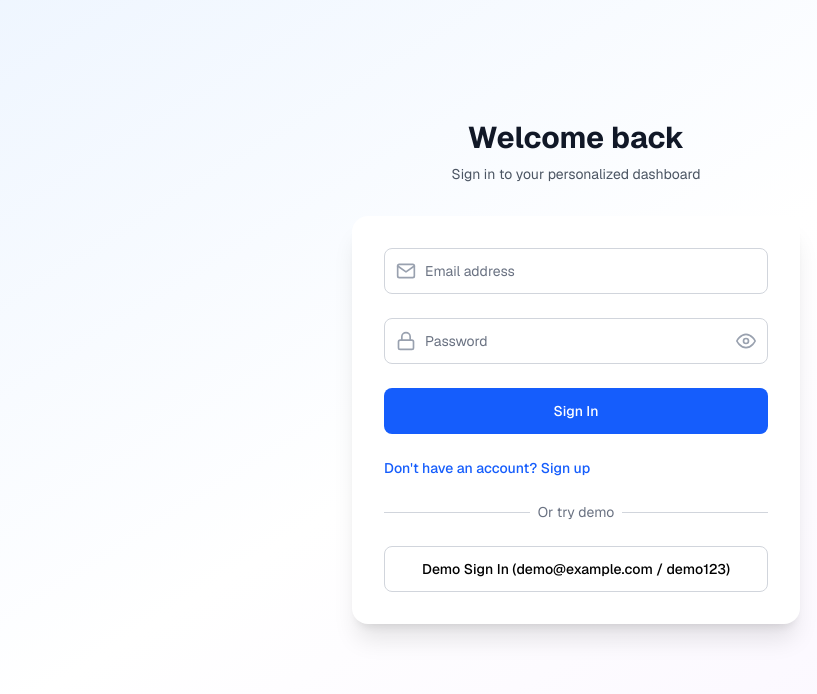
Test: Critical User Flows › Authentication › should show error for invalid credentials
The image size is (817, 694).
Type "wrong@example.com" into the field with placeholder "Email address".
click(576, 271); type("wrong@example.com")  # box [384,248,768,294]
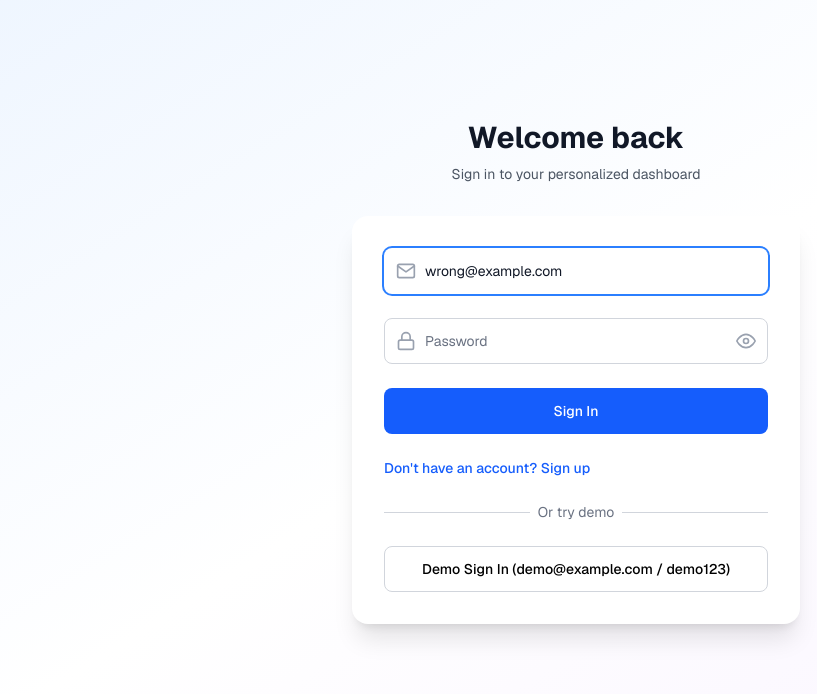
Type "wrongpass" into the password field with placeholder "Password".
click(576, 341); type("wrongpass")  # box [384,318,768,364]
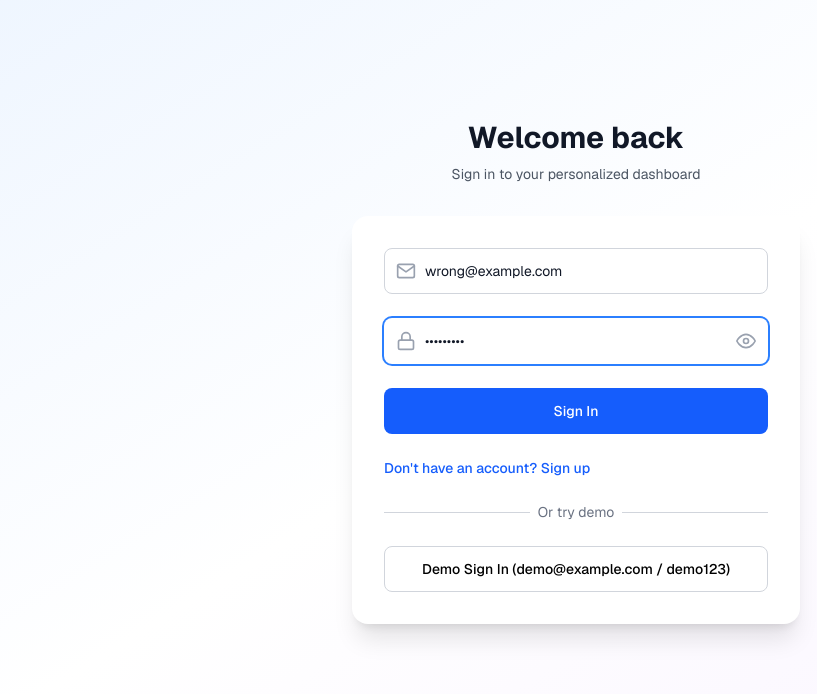
Click the submit button.
click(576, 411)  # box [384,388,768,434]
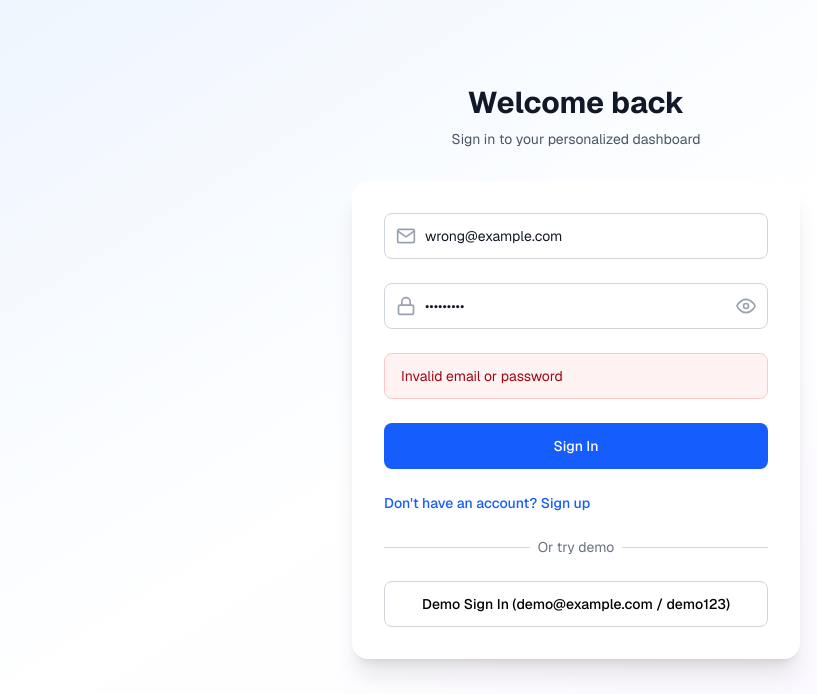
Now the text "Invalid email or password" is shown, box [384,353,768,399]
